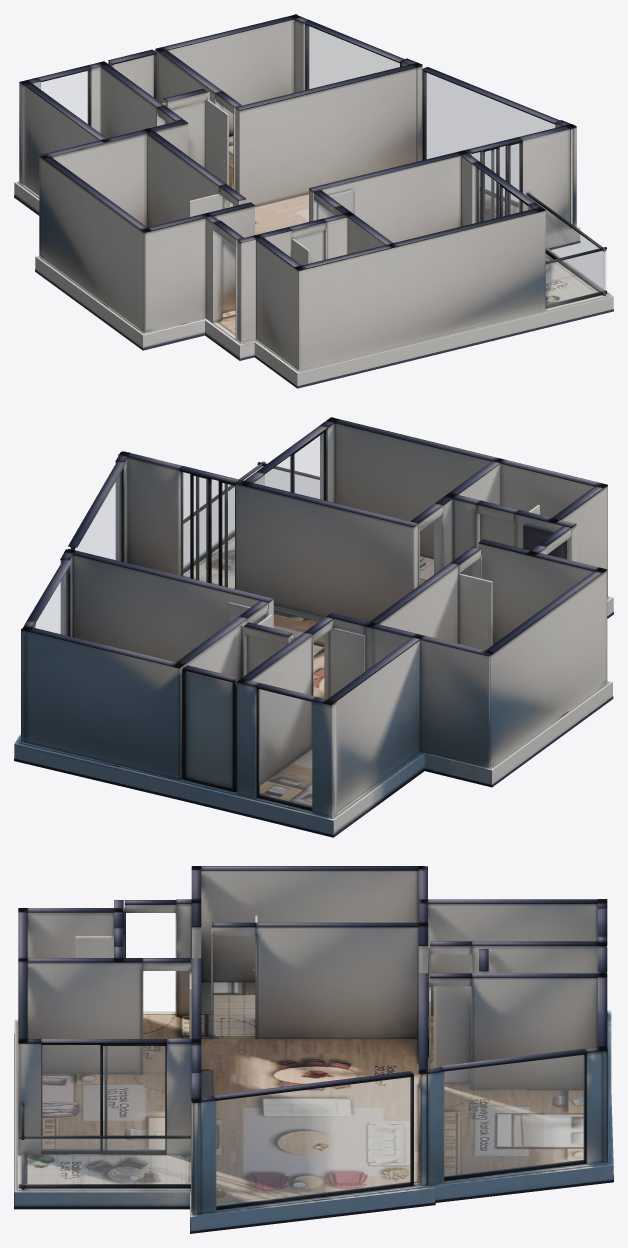
3 views of the same model, one above another, from view 1: azimuth 30°, elevation 25°; view 2: azimuth 150°, elevation 25°; view 3: azimuth 270°, elevation 25° (orthographic). The views are drawn at different scales.
Visible parts, largest first — view 1: plan, glass1_m, glass3_m, railg1_m, railg0_m, glass2_m, glass4_m, glass0_m; view 2: plan, glass4_m, glass5_m, glass2_m, glass0_m, glass1_m, railg0_m, glass3_m, railg1_m; view 3: plan, glass1_m, glass3_m, glass0_m, railg0_m.
Part boxes in pixels (x1,y1,x2,y2): plan: (14, 14, 613, 388); glass1_m: (426, 73, 554, 189); glass3_m: (307, 26, 399, 89); railg1_m: (546, 250, 606, 304); railg0_m: (528, 196, 604, 292); glass2_m: (472, 143, 519, 220); glass4_m: (41, 71, 88, 123); glass0_m: (476, 167, 527, 222); plan: (14, 417, 613, 837); glass4_m: (259, 689, 311, 807); glass5_m: (186, 672, 231, 787); glass2_m: (180, 472, 234, 588); glass0_m: (265, 433, 323, 499); glass1_m: (75, 472, 121, 560); railg0_m: (184, 466, 262, 568); glass3_m: (36, 570, 67, 635); railg1_m: (260, 466, 319, 498); plan: (14, 866, 613, 1233); glass1_m: (216, 1077, 410, 1206); glass3_m: (444, 1055, 584, 1176); glass0_m: (41, 1045, 164, 1150); railg0_m: (19, 1139, 190, 1184).
Size of the model in its own units: 10.36 by 2.62 by 10.96.
Materials: 2 (1 with a texture image).
